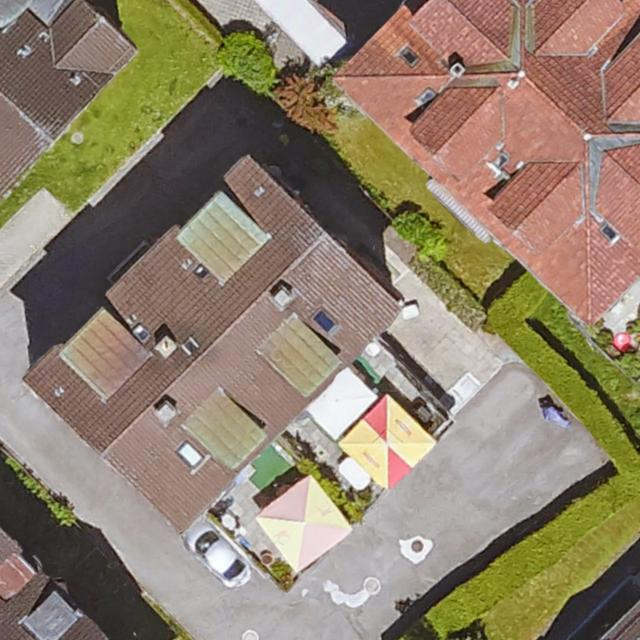tree: (218, 31, 279, 93), (284, 79, 334, 131)
